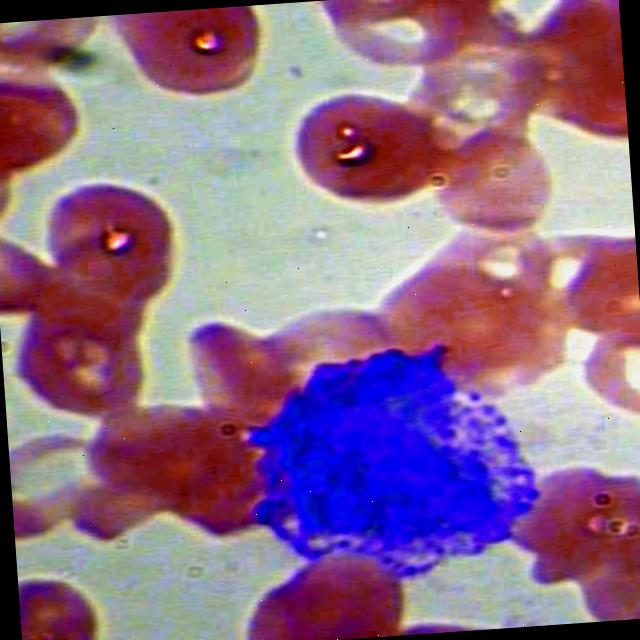RBC: (279, 80, 443, 220), (231, 535, 428, 640), (103, 3, 265, 118), (30, 202, 178, 326), (416, 122, 564, 245), (405, 26, 553, 149), (28, 163, 176, 286), (8, 259, 156, 382), (2, 306, 150, 429), (72, 400, 236, 504), (516, 0, 628, 151), (170, 312, 294, 446), (7, 422, 114, 550), (0, 55, 89, 198), (314, 0, 459, 82), (549, 230, 640, 346), (555, 322, 640, 437), (435, 0, 580, 63), (16, 551, 111, 640)
WBC: (242, 334, 542, 605)
